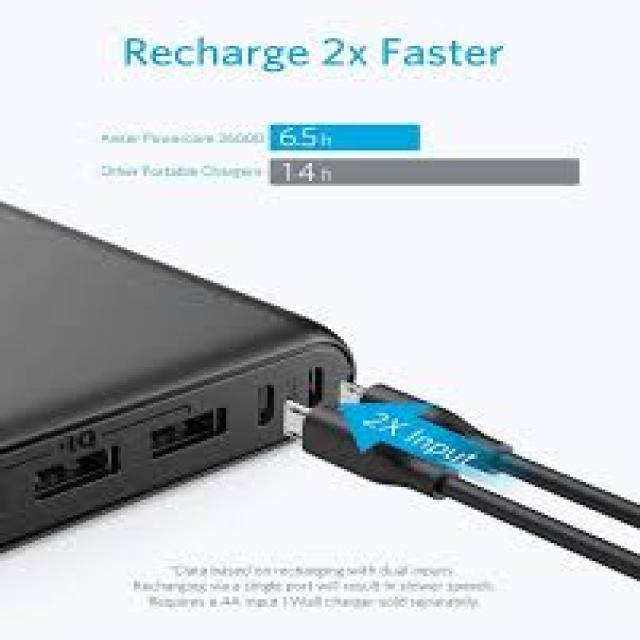power_bank: (0, 202, 373, 556)
